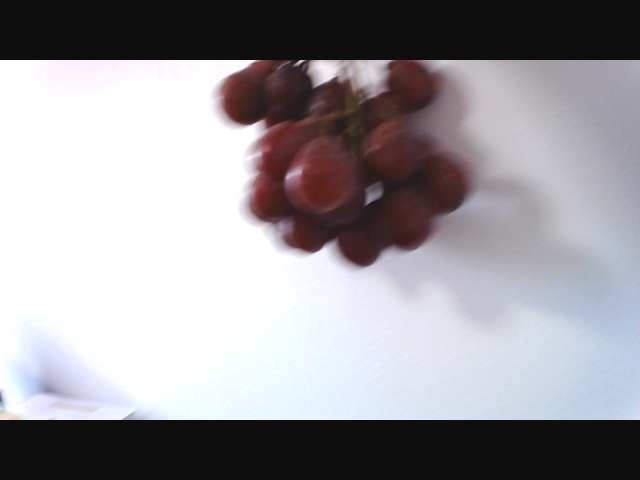grape: (207, 69, 486, 261)
